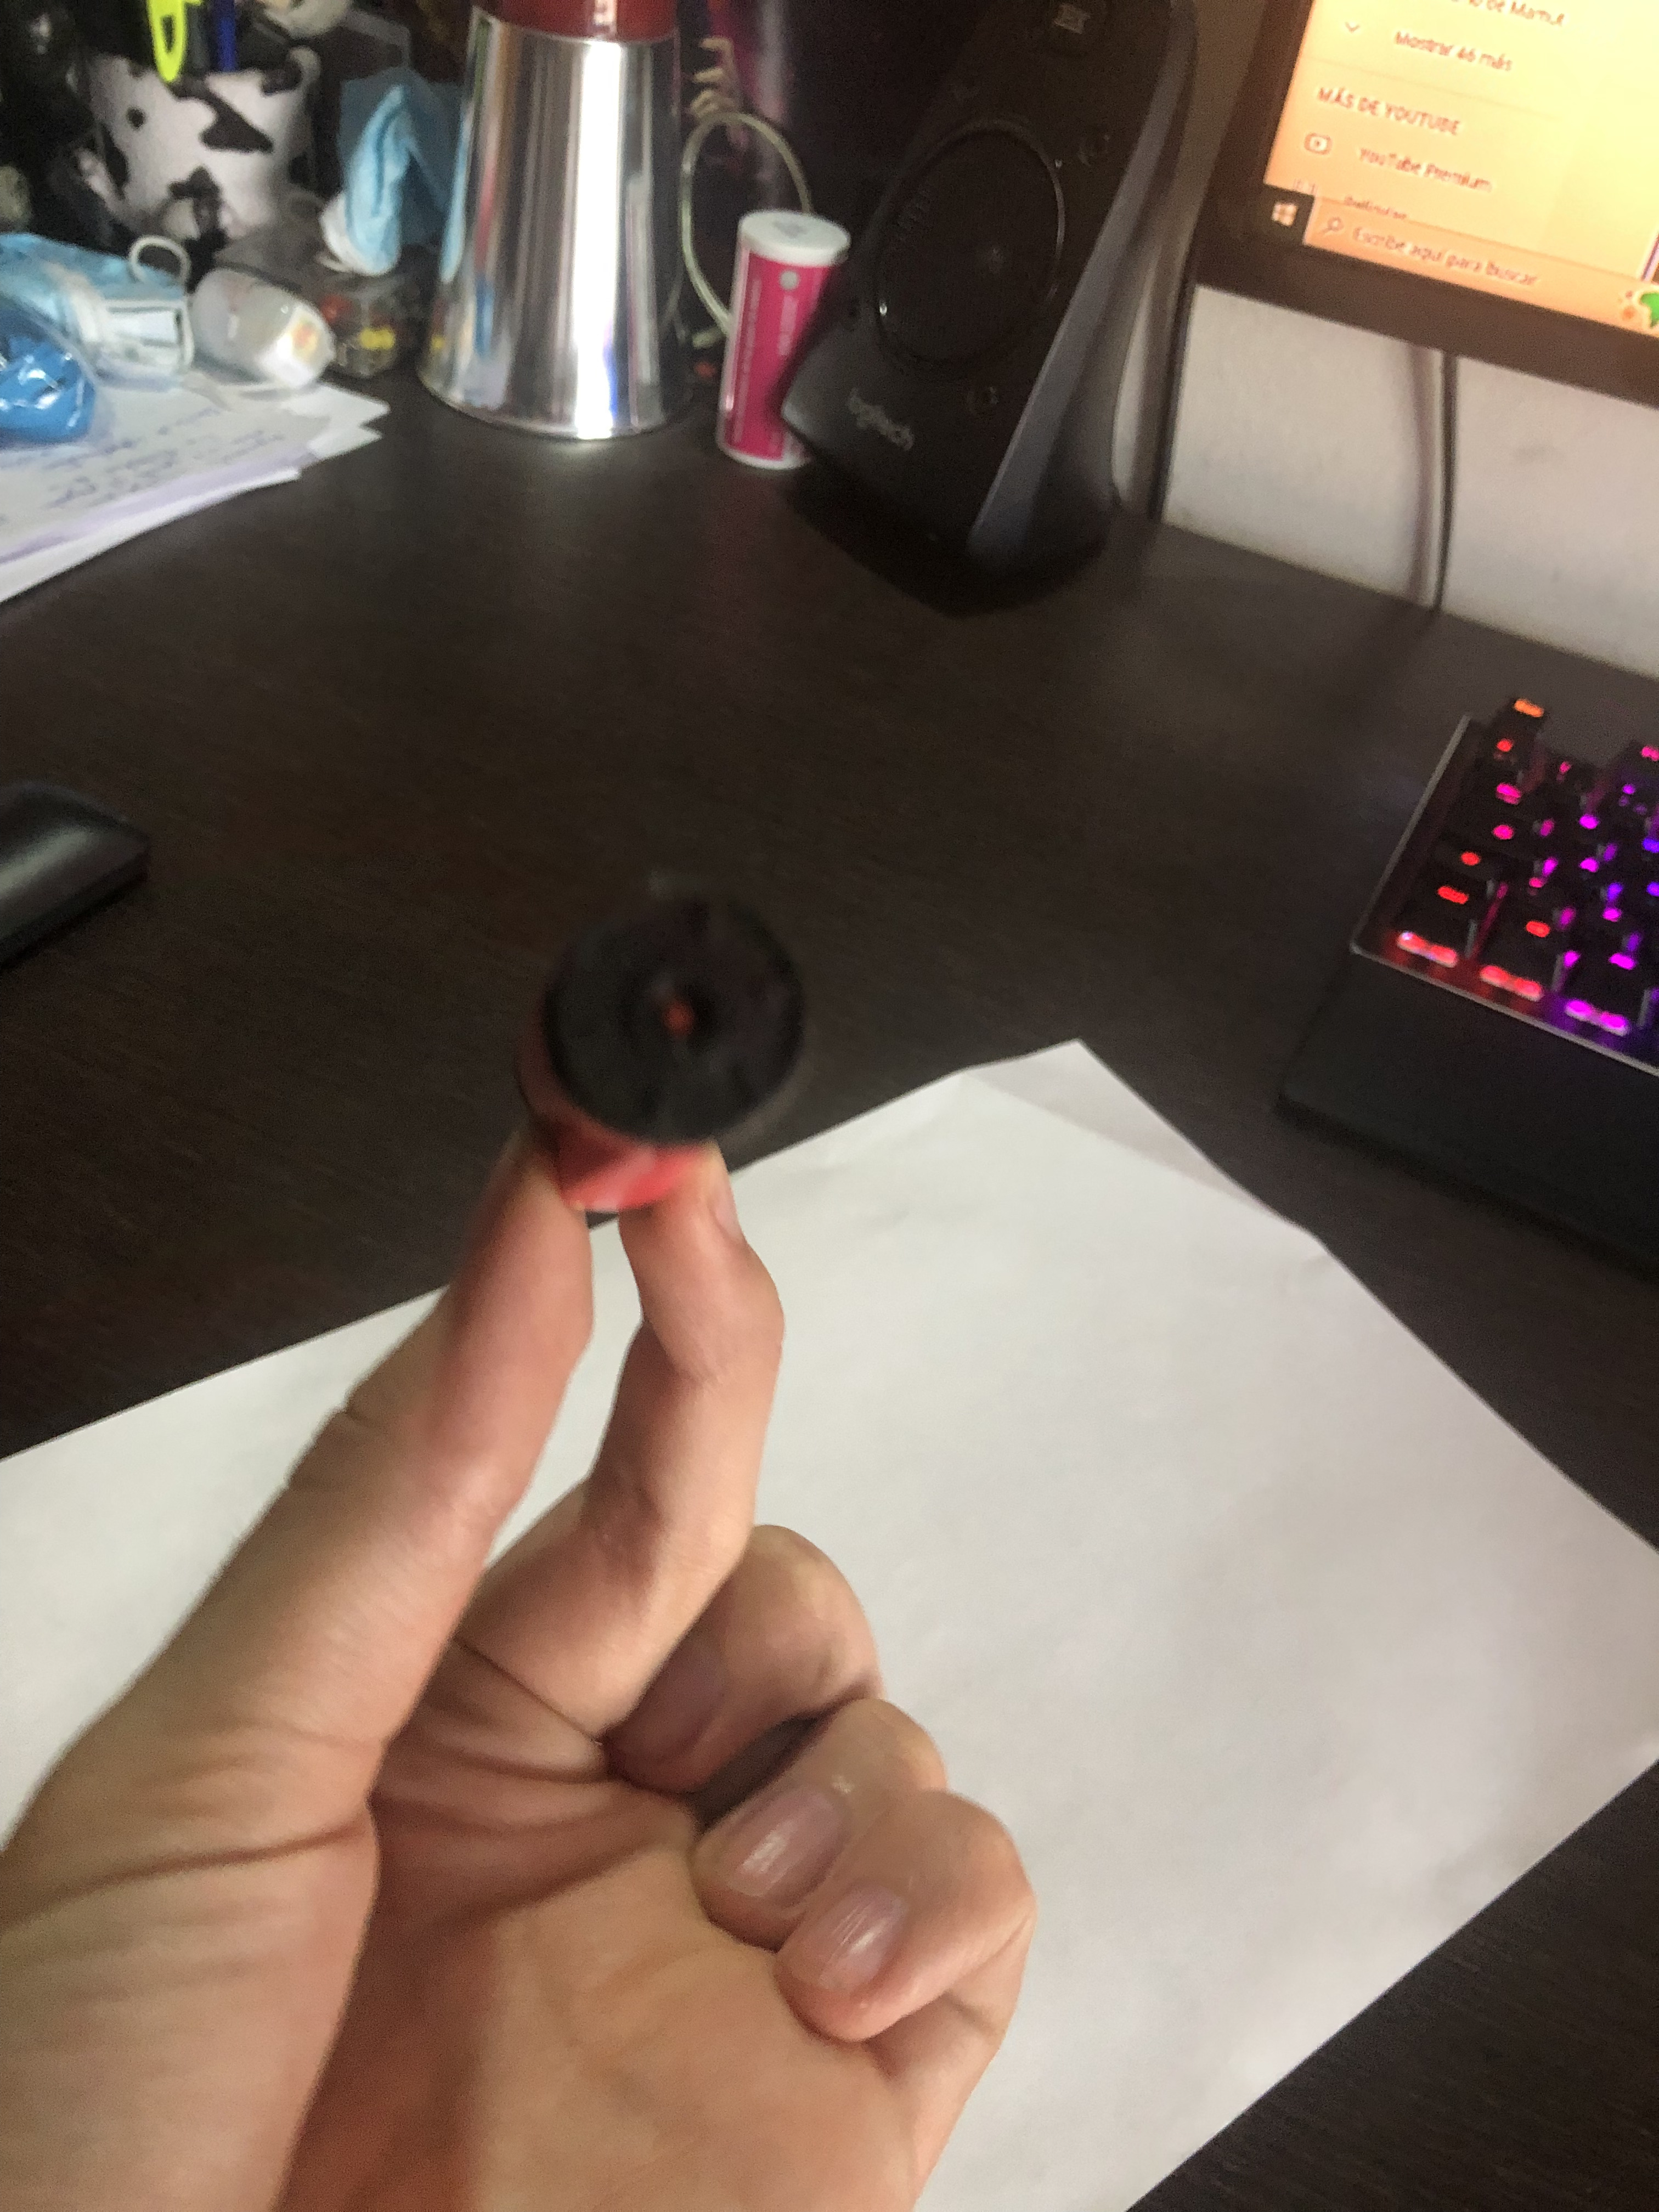Mechero: (497, 902, 816, 1264)
